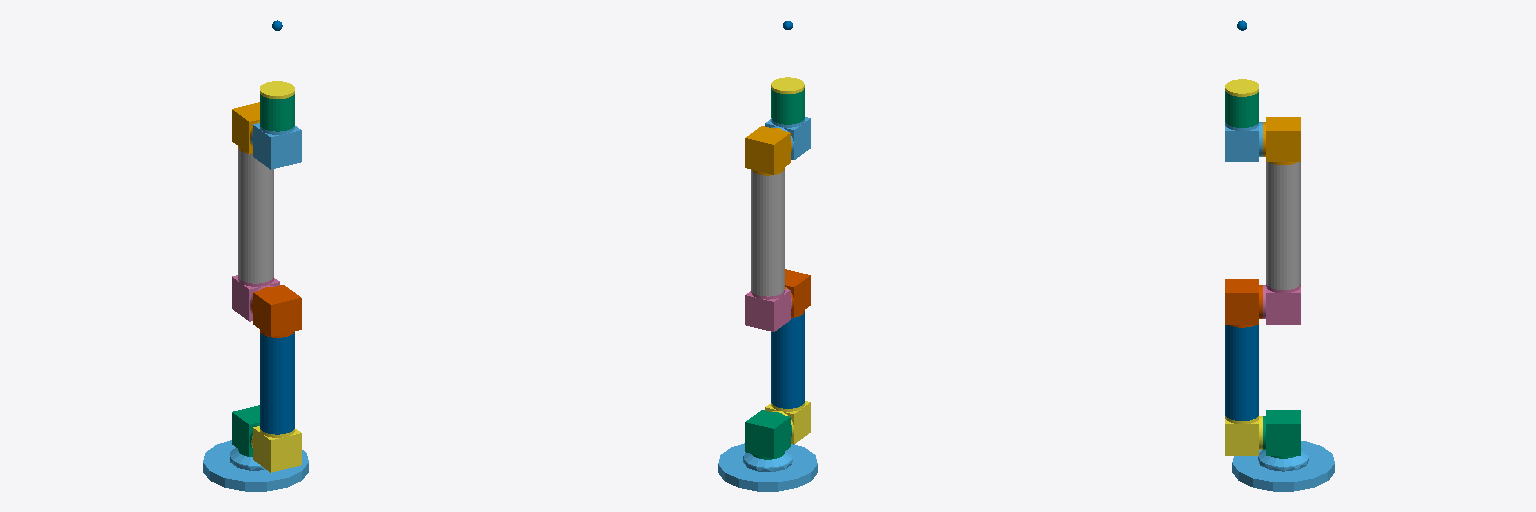
URDF robot description (armrobot):
<?xml version="1.0" encoding="utf-8"?>
<!-- =================================================================================== -->
<!-- |    This document was autogenerated by xacro from [local-path]/dev/catkin_ws/src/robot_desc/models/robot_environment.xacro | -->
<!-- |    EDITING THIS FILE BY HAND IS NOT RECOMMENDED                                 | -->
<!-- =================================================================================== -->
<robot name="armrobot">
  <gazebo>
    <plugin filename="libgazebo_ros_control.so" name="gazebo_ros_control">
    </plugin>
  </gazebo>
  <link name="world"/>
  <joint name="world_joint" type="fixed">
    <origin rpy="0 0 0" xyz="0 0 0"/>
    <parent link="world"/>
    <child link="base_model"/>
  </joint>
  <!-- Base Model -->
  <link name="base_model">
    <inertial>
      <origin rpy="0 0 0" xyz="2e-06 0 0.019926"/>
      <mass value="1000"/>
      <inertia ixx="4.811547714514836" ixy="0" ixz="0" iyy="4.811547714514836" iyz="0" izz="9.623095429029672"/>
    </inertial>
    <collision>
      <geometry>
        <mesh filename="package://robot_desc/models/BaseModel2.dae"/>
      </geometry>
    </collision>
    <visual>
      <geometry>
        <mesh filename="package://robot_desc/models/BaseModel2.dae"/>
      </geometry>
    </visual>
  </link>
  <gazebo reference="base_model">
    <material>Gazebo/DarkGrey</material>
    <selfCollide>true</selfCollide>
  </gazebo>
  <!-- Arm Construct -->
  <!-- 2 Adapter -->
  <link name="adapter_1_1">
    <inertial>
      <origin rpy="0 0 0" xyz="0 -0.003725 0.003727"/>
      <mass value="10"/>
      <inertia ixx="0.017286084701815037" ixy="0" ixz="0" iyy="0.017286084701815037" iyz="0" izz="0.017286084701815037"/>
    </inertial>
    <collision name="adapter_1_1_collision">
      <geometry>
        <mesh filename="package://robot_desc/models/FirstLink.dae"/>
      </geometry>
    </collision>
    <visual>
      <geometry>
        <mesh filename="package://robot_desc/models/FirstLink.dae"/>
      </geometry>
    </visual>
  </link>
  <gazebo reference="adapter_1_1">
    <material>Gazebo/FlatBlack</material>
    <selfCollide>true</selfCollide>
  </gazebo>
  <!-- Contact Sensor -->
  <gazebo reference="adapter_1_1">
    <sensor name="adapter_1_1_contact_sensor" type="contact">
      <always_on>true</always_on>
      <contact>
        <collision>adapter_1_1_collision_collision</collision>
      </contact>
      <plugin filename="libgazebo_ros_bumper.so" name="adapter_1_1_plugin">
        <bumperTopicName>adapter_1_1_contact</bumperTopicName>
        <frameName>adapter_1_1</frameName>
      </plugin>
    </sensor>
  </gazebo>
  <link name="adapter_1_2">
    <inertial>
      <origin rpy="0 0 0" xyz="0 -0.003725 0.003727"/>
      <mass value="10"/>
      <inertia ixx="0.017286084701815037" ixy="0" ixz="0" iyy="0.017286084701815037" iyz="0" izz="0.017286084701815037"/>
    </inertial>
    <collision name="adapter_1_2_collision">
      <geometry>
        <mesh filename="package://robot_desc/models/FirstLink.dae"/>
      </geometry>
    </collision>
    <visual>
      <geometry>
        <mesh filename="package://robot_desc/models/FirstLink.dae"/>
      </geometry>
    </visual>
  </link>
  <gazebo reference="adapter_1_2">
    <material>Gazebo/FlatBlack</material>
    <selfCollide>true</selfCollide>
  </gazebo>
  <!-- Contact Sensor -->
  <gazebo reference="adapter_1_2">
    <sensor name="adapter_1_2_contact_sensor" type="contact">
      <always_on>true</always_on>
      <contact>
        <collision>adapter_1_2_collision_collision</collision>
      </contact>
      <plugin filename="libgazebo_ros_bumper.so" name="adapter_1_2_plugin">
        <bumperTopicName>adapter_1_2_contact</bumperTopicName>
        <frameName>adapter_1_2</frameName>
      </plugin>
    </sensor>
  </gazebo>
  <!-- 1 Arm -->
  <link name="arm_1">
    <inertial>
      <origin rpy="0 0 0" xyz="0 0 0"/>
      <mass value="6"/>
      <inertia ixx="0.04875" ixy="0" ixz="0" iyy="0.04875" iyz="0" izz="0.0012500000000000002"/>
    </inertial>
    <collision name="arm_1_collision">
      <geometry>
        <cylinder length="0.3" radius="0.05"/>
      </geometry>
    </collision>
    <visual>
      <geometry>
        <cylinder length="0.3" radius="0.05"/>
      </geometry>
    </visual>
  </link>
  <gazebo reference="arm_1">
    <material>Gazebo/DarkGrey</material>
    <selfCollide>true</selfCollide>
  </gazebo>
  <!-- Contact Sensor -->
  <gazebo reference="arm_1">
    <sensor name="arm_1_contact_sensor" type="contact">
      <always_on>true</always_on>
      <contact>
        <collision>arm_1_collision_collision</collision>
      </contact>
      <plugin filename="libgazebo_ros_bumper.so" name="arm_1_plugin">
        <bumperTopicName>arm_1_contact</bumperTopicName>
        <frameName>arm_1</frameName>
      </plugin>
    </sensor>
  </gazebo>
  <!-- 2 Adapter -->
  <link name="adapter_2_1">
    <inertial>
      <origin rpy="0 0 0" xyz="0 -0.003725 0.003727"/>
      <mass value="10"/>
      <inertia ixx="0.017286084701815037" ixy="0" ixz="0" iyy="0.017286084701815037" iyz="0" izz="0.017286084701815037"/>
    </inertial>
    <collision name="adapter_2_1_collision">
      <geometry>
        <mesh filename="package://robot_desc/models/FirstLink.dae"/>
      </geometry>
    </collision>
    <visual>
      <geometry>
        <mesh filename="package://robot_desc/models/FirstLink.dae"/>
      </geometry>
    </visual>
  </link>
  <gazebo reference="adapter_2_1">
    <material>Gazebo/FlatBlack</material>
    <selfCollide>true</selfCollide>
  </gazebo>
  <!-- Contact Sensor -->
  <gazebo reference="adapter_2_1">
    <sensor name="adapter_2_1_contact_sensor" type="contact">
      <always_on>true</always_on>
      <contact>
        <collision>adapter_2_1_collision_collision</collision>
      </contact>
      <plugin filename="libgazebo_ros_bumper.so" name="adapter_2_1_plugin">
        <bumperTopicName>adapter_2_1_contact</bumperTopicName>
        <frameName>adapter_2_1</frameName>
      </plugin>
    </sensor>
  </gazebo>
  <link name="adapter_2_2">
    <inertial>
      <origin rpy="0 0 0" xyz="0 -0.003725 0.003727"/>
      <mass value="10"/>
      <inertia ixx="0.017286084701815037" ixy="0" ixz="0" iyy="0.017286084701815037" iyz="0" izz="0.017286084701815037"/>
    </inertial>
    <collision name="adapter_2_2_collision">
      <geometry>
        <mesh filename="package://robot_desc/models/FirstLink.dae"/>
      </geometry>
    </collision>
    <visual>
      <geometry>
        <mesh filename="package://robot_desc/models/FirstLink.dae"/>
      </geometry>
    </visual>
  </link>
  <gazebo reference="adapter_2_2">
    <material>Gazebo/FlatBlack</material>
    <selfCollide>true</selfCollide>
  </gazebo>
  <!-- Contact Sensor -->
  <gazebo reference="adapter_2_2">
    <sensor name="adapter_2_2_contact_sensor" type="contact">
      <always_on>true</always_on>
      <contact>
        <collision>adapter_2_2_collision_collision</collision>
      </contact>
      <plugin filename="libgazebo_ros_bumper.so" name="adapter_2_2_plugin">
        <bumperTopicName>adapter_2_2_contact</bumperTopicName>
        <frameName>adapter_2_2</frameName>
      </plugin>
    </sensor>
  </gazebo>
  <!-- 1 Arm -->
  <link name="arm_2">
    <inertial>
      <origin rpy="0 0 0" xyz="0 0 0"/>
      <mass value="9"/>
      <inertia ixx="0.12562500000000004" ixy="0" ixz="0" iyy="0.12562500000000004" iyz="0" izz="0.0018750000000000004"/>
    </inertial>
    <collision name="arm_2_collision">
      <geometry>
        <cylinder length="0.4" radius="0.05"/>
      </geometry>
    </collision>
    <visual>
      <geometry>
        <cylinder length="0.4" radius="0.05"/>
      </geometry>
    </visual>
  </link>
  <gazebo reference="arm_2">
    <material>Gazebo/DarkGrey</material>
    <selfCollide>true</selfCollide>
  </gazebo>
  <!-- Contact Sensor -->
  <gazebo reference="arm_2">
    <sensor name="arm_2_contact_sensor" type="contact">
      <always_on>true</always_on>
      <contact>
        <collision>arm_2_collision_collision</collision>
      </contact>
      <plugin filename="libgazebo_ros_bumper.so" name="arm_2_plugin">
        <bumperTopicName>arm_2_contact</bumperTopicName>
        <frameName>arm_2</frameName>
      </plugin>
    </sensor>
  </gazebo>
  <!-- 2 Adapter -->
  <link name="adapter_3_1">
    <inertial>
      <origin rpy="0 0 0" xyz="0 -0.003725 0.003727"/>
      <mass value="10"/>
      <inertia ixx="0.017286084701815037" ixy="0" ixz="0" iyy="0.017286084701815037" iyz="0" izz="0.017286084701815037"/>
    </inertial>
    <collision name="adapter_3_1_collision">
      <geometry>
        <mesh filename="package://robot_desc/models/FirstLink.dae"/>
      </geometry>
    </collision>
    <visual>
      <geometry>
        <mesh filename="package://robot_desc/models/FirstLink.dae"/>
      </geometry>
    </visual>
  </link>
  <gazebo reference="adapter_3_1">
    <material>Gazebo/FlatBlack</material>
    <selfCollide>true</selfCollide>
  </gazebo>
  <!-- Contact Sensor -->
  <gazebo reference="adapter_3_1">
    <sensor name="adapter_3_1_contact_sensor" type="contact">
      <always_on>true</always_on>
      <contact>
        <collision>adapter_3_1_collision_collision</collision>
      </contact>
      <plugin filename="libgazebo_ros_bumper.so" name="adapter_3_1_plugin">
        <bumperTopicName>adapter_3_1_contact</bumperTopicName>
        <frameName>adapter_3_1</frameName>
      </plugin>
    </sensor>
  </gazebo>
  <link name="adapter_3_2">
    <inertial>
      <origin rpy="0 0 0" xyz="0 -0.003725 0.003727"/>
      <mass value="10"/>
      <inertia ixx="0.017286084701815037" ixy="0" ixz="0" iyy="0.017286084701815037" iyz="0" izz="0.017286084701815037"/>
    </inertial>
    <collision name="adapter_3_2_collision">
      <geometry>
        <mesh filename="package://robot_desc/models/FirstLink.dae"/>
      </geometry>
    </collision>
    <visual>
      <geometry>
        <mesh filename="package://robot_desc/models/FirstLink.dae"/>
      </geometry>
    </visual>
  </link>
  <gazebo reference="adapter_3_2">
    <material>Gazebo/FlatBlack</material>
    <selfCollide>true</selfCollide>
  </gazebo>
  <!-- Contact Sensor -->
  <gazebo reference="adapter_3_2">
    <sensor name="adapter_3_2_contact_sensor" type="contact">
      <always_on>true</always_on>
      <contact>
        <collision>adapter_3_2_collision_collision</collision>
      </contact>
      <plugin filename="libgazebo_ros_bumper.so" name="adapter_3_2_plugin">
        <bumperTopicName>adapter_3_2_contact</bumperTopicName>
        <frameName>adapter_3_2</frameName>
      </plugin>
    </sensor>
  </gazebo>
  <!-- 1 Arm -->
  <link name="arm_3">
    <inertial>
      <origin rpy="0 0 0" xyz="0 0 0"/>
      <mass value="2"/>
      <inertia ixx="0.002916666666666667" ixy="0" ixz="0" iyy="0.002916666666666667" iyz="0" izz="0.00041666666666666675"/>
    </inertial>
    <collision name="arm_3_collision">
      <geometry>
        <cylinder length="0.1" radius="0.05"/>
      </geometry>
    </collision>
    <visual>
      <geometry>
        <cylinder length="0.1" radius="0.05"/>
      </geometry>
    </visual>
  </link>
  <gazebo reference="arm_3">
    <material>Gazebo/DarkGrey</material>
    <selfCollide>true</selfCollide>
  </gazebo>
  <!-- Contact Sensor -->
  <gazebo reference="arm_3">
    <sensor name="arm_3_contact_sensor" type="contact">
      <always_on>true</always_on>
      <contact>
        <collision>arm_3_collision_collision</collision>
      </contact>
      <plugin filename="libgazebo_ros_bumper.so" name="arm_3_plugin">
        <bumperTopicName>arm_3_contact</bumperTopicName>
        <frameName>arm_3</frameName>
      </plugin>
    </sensor>
  </gazebo>
  <!-- Tool Tip -->
  <link name="tooltip">
    <inertial>
      <origin rpy="0 0 0" xyz="0 0 0"/>
      <mass value="10"/>
      <inertia ixx="0.006333333333333334" ixy="0" ixz="0" iyy="0.006333333333333334" iyz="0" izz="0.0020833333333333337"/>
    </inertial>
    <collision>
      <geometry>
        <cylinder length="0.01" radius="0.05"/>
      </geometry>
    </collision>
    <visual>
      <geometry>
        <cylinder length="0.01" radius="0.05"/>
      </geometry>
    </visual>
  </link>
  <gazebo reference="tooltip">
    <material>Gazebo/DarkGrey</material>
    <selfCollide>true</selfCollide>
  </gazebo>
  <!-- EEF Dummy -->
  <link name="eef_dummy">
    <visual>
      <origin rpy="0 0 0" xyz="0 0 0"/>
      <geometry>
        <sphere radius="0.015"/>
      </geometry>
    </visual>
    <inertial>
      <origin rpy="0 0 0" xyz="0 0 0"/>
      <mass value="1"/>
      <inertia ixx="1.0" ixy="0.0" ixz="0.0" iyy="1.0" iyz="0.0" izz="1.0"/>
    </inertial>
  </link>
  <gazebo reference="eef_dummy">
    <material>Gazebo/Red</material>
  </gazebo>
  <joint name="eef_dummy_joint" type="fixed">
    <origin rpy="0 0 0" xyz="0 0 0.2"/>
    <parent link="tooltip"/>
    <child link="eef_dummy"/>
  </joint>
  <!-- Joint -->
  <joint name="base_model_adapter_1_1" type="revolute">
    <parent link="base_model"/>
    <child link="adapter_1_1"/>
    <origin rpy="0 3.141592653589793 0" xyz="0 0 0.12"/>
    <axis xyz="0 0 1"/>
    <limit effort="1000.0" lower="-3.141592653589793" upper="3.141592653589793" velocity="3.2"/>
  </joint>
  <transmission name="base_model_adapter_1_1_trans">
    <type>transmission_interface/SimpleTransmission</type>
    <joint name="base_model_adapter_1_1">
      <hardwareInterface>hardware_interface/PositionJointInterface</hardwareInterface>
    </joint>
    <actuator name="base_model_adapter_1_1_motor">
      <mechanicalReduction>1</mechanicalReduction>
    </actuator>
  </transmission>
  <joint name="adapter_1_1_adapter_1_2" type="revolute">
    <parent link="adapter_1_1"/>
    <child link="adapter_1_2"/>
    <origin rpy="3.141592653589793 0 0" xyz="0 -0.12 0"/>
    <axis xyz="0 1 0"/>
    <limit effort="1000.0" lower="-3.141592653589793" upper="3.141592653589793" velocity="3.2"/>
  </joint>
  <transmission name="adapter_1_1_adapter_1_2_trans">
    <type>transmission_interface/SimpleTransmission</type>
    <joint name="adapter_1_1_adapter_1_2">
      <hardwareInterface>hardware_interface/PositionJointInterface</hardwareInterface>
    </joint>
    <actuator name="adapter_1_1_adapter_1_2_motor">
      <mechanicalReduction>1</mechanicalReduction>
    </actuator>
  </transmission>
  <joint name="adapter_1_2_arm_1" type="revolute">
    <parent link="adapter_1_2"/>
    <child link="arm_1"/>
    <origin rpy="0 0 0" xyz="0 0 0.21"/>
    <axis xyz="0 0 1"/>
    <limit effort="1000.0" lower="0" upper="0" velocity="3.2"/>
  </joint>
  <transmission name="adapter_1_2_arm_1_trans">
    <type>transmission_interface/SimpleTransmission</type>
    <joint name="adapter_1_2_arm_1">
      <hardwareInterface>hardware_interface/PositionJointInterface</hardwareInterface>
    </joint>
    <actuator name="adapter_1_2_arm_1_motor">
      <mechanicalReduction>1</mechanicalReduction>
    </actuator>
  </transmission>
  <joint name="arm_1_adapter_2_1" type="revolute">
    <parent link="arm_1"/>
    <child link="adapter_2_1"/>
    <origin rpy="1.5707963267948966 0 0" xyz="0 0 0.21"/>
    <axis xyz="0 1 0"/>
    <limit effort="1000.0" lower="0" upper="0" velocity="3.2"/>
  </joint>
  <transmission name="arm_1_adapter_2_1_trans">
    <type>transmission_interface/SimpleTransmission</type>
    <joint name="arm_1_adapter_2_1">
      <hardwareInterface>hardware_interface/PositionJointInterface</hardwareInterface>
    </joint>
    <actuator name="arm_1_adapter_2_1_motor">
      <mechanicalReduction>1</mechanicalReduction>
    </actuator>
  </transmission>
  <joint name="adapter_2_1_adapter_2_2" type="revolute">
    <parent link="adapter_2_1"/>
    <child link="adapter_2_2"/>
    <origin rpy="3.141592653589793 0 0" xyz="0 0 0.12"/>
    <axis xyz="0 0 1"/>
    <limit effort="1000.0" lower="-3.141592653589793" upper="3.141592653589793" velocity="3.2"/>
  </joint>
  <transmission name="adapter_2_1_adapter_2_2_trans">
    <type>transmission_interface/SimpleTransmission</type>
    <joint name="adapter_2_1_adapter_2_2">
      <hardwareInterface>hardware_interface/PositionJointInterface</hardwareInterface>
    </joint>
    <actuator name="adapter_2_1_adapter_2_2_motor">
      <mechanicalReduction>1</mechanicalReduction>
    </actuator>
  </transmission>
  <joint name="adapter_2_2_arm_2" type="revolute">
    <parent link="adapter_2_2"/>
    <child link="arm_2"/>
    <origin rpy="1.5707963267948966 0 0" xyz="0 -0.26 0"/>
    <axis xyz="0 0 1"/>
    <limit effort="1000.0" lower="0" upper="0" velocity="3.2"/>
  </joint>
  <transmission name="adapter_2_2_arm_2_trans">
    <type>transmission_interface/SimpleTransmission</type>
    <joint name="adapter_2_2_arm_2">
      <hardwareInterface>hardware_interface/PositionJointInterface</hardwareInterface>
    </joint>
    <actuator name="adapter_2_2_arm_2_motor">
      <mechanicalReduction>1</mechanicalReduction>
    </actuator>
  </transmission>
  <joint name="arm_2_adapter_3_1" type="revolute">
    <parent link="arm_2"/>
    <child link="adapter_3_1"/>
    <origin rpy="3.141592653589793 0 0" xyz="0 0 0.26"/>
    <axis xyz="0 0 1"/>
    <limit effort="1000.0" lower="-3.141592653589793" upper="3.141592653589793" velocity="3.2"/>
  </joint>
  <transmission name="arm_2_adapter_3_1_trans">
    <type>transmission_interface/SimpleTransmission</type>
    <joint name="arm_2_adapter_3_1">
      <hardwareInterface>hardware_interface/PositionJointInterface</hardwareInterface>
    </joint>
    <actuator name="arm_2_adapter_3_1_motor">
      <mechanicalReduction>1</mechanicalReduction>
    </actuator>
  </transmission>
  <joint name="adapter_3_1_adapter_3_2" type="revolute">
    <parent link="adapter_3_1"/>
    <child link="adapter_3_2"/>
    <origin rpy="3.141592653589793 0 0" xyz="0 -0.12 0"/>
    <axis xyz="0 1 0"/>
    <limit effort="1000.0" lower="-3.141592653589793" upper="3.141592653589793" velocity="3.2"/>
  </joint>
  <transmission name="adapter_3_1_adapter_3_2_trans">
    <type>transmission_interface/SimpleTransmission</type>
    <joint name="adapter_3_1_adapter_3_2">
      <hardwareInterface>hardware_interface/PositionJointInterface</hardwareInterface>
    </joint>
    <actuator name="adapter_3_1_adapter_3_2_motor">
      <mechanicalReduction>1</mechanicalReduction>
    </actuator>
  </transmission>
  <joint name="adapter_3_2_arm_3" type="revolute">
    <parent link="adapter_3_2"/>
    <child link="arm_3"/>
    <origin rpy="0 0 0" xyz="0 0 0.11"/>
    <axis xyz="0 0 1"/>
    <limit effort="1000.0" lower="0" upper="0" velocity="3.2"/>
  </joint>
  <transmission name="adapter_3_2_arm_3_trans">
    <type>transmission_interface/SimpleTransmission</type>
    <joint name="adapter_3_2_arm_3">
      <hardwareInterface>hardware_interface/PositionJointInterface</hardwareInterface>
    </joint>
    <actuator name="adapter_3_2_arm_3_motor">
      <mechanicalReduction>1</mechanicalReduction>
    </actuator>
  </transmission>
  <joint name="arm_3_tooltip" type="revolute">
    <parent link="arm_3"/>
    <child link="tooltip"/>
    <origin rpy="0 0 0" xyz="0 0 0.055"/>
    <axis xyz="0 0 1"/>
    <limit effort="1000.0" lower="-3.141592653589793" upper="3.141592653589793" velocity="3.2"/>
  </joint>
  <transmission name="arm_3_tooltip_trans">
    <type>transmission_interface/SimpleTransmission</type>
    <joint name="arm_3_tooltip">
      <hardwareInterface>hardware_interface/PositionJointInterface</hardwareInterface>
    </joint>
    <actuator name="arm_3_tooltip_motor">
      <mechanicalReduction>1</mechanicalReduction>
    </actuator>
  </transmission>
</robot>

--- Render facts (derived) ---
Views: 3 orthographic renders of the robot side by side, from view 1: azimuth 30°, elevation 25°; view 2: azimuth 150°, elevation 25°; view 3: azimuth 270°, elevation 25°.
Model armrobot with 13 links and 12 joints (10 revolute, 2 fixed), rooted at world, posed every joint at zero.
Links seen in each view (by area): view 1: arm_2, arm_1, base_model, adapter_2_1, adapter_1_2, adapter_3_2, arm_3, adapter_3_1, adapter_1_1, adapter_2_2, tooltip; view 2: arm_2, base_model, arm_1, adapter_1_1, adapter_3_1, adapter_2_2, arm_3, adapter_2_1, adapter_1_2, adapter_3_2; view 3: arm_2, base_model, arm_1, adapter_1_1, adapter_2_1, adapter_3_1, adapter_2_2, adapter_1_2, adapter_3_2, arm_3.
Link boxes in pixels (x1=…): arm_2: x1=238, y1=148, x2=273, y2=283; arm_1: x1=260, y1=332, x2=294, y2=434; base_model: x1=203, y1=440, x2=308, y2=491; adapter_2_1: x1=251, y1=285, x2=301, y2=337; adapter_1_2: x1=251, y1=426, x2=301, y2=472; adapter_3_2: x1=251, y1=123, x2=301, y2=169; arm_3: x1=260, y1=94, x2=294, y2=131; adapter_3_1: x1=232, y1=102, x2=259, y2=154; adapter_1_1: x1=232, y1=405, x2=259, y2=456; adapter_2_2: x1=232, y1=275, x2=279, y2=321; tooltip: x1=260, y1=81, x2=294, y2=98; arm_2: x1=751, y1=170, x2=784, y2=296; base_model: x1=718, y1=443, x2=817, y2=491; arm_1: x1=771, y1=312, x2=804, y2=408; adapter_1_1: x1=745, y1=410, x2=791, y2=459; adapter_3_1: x1=745, y1=126, x2=791, y2=175; adapter_2_2: x1=745, y1=289, x2=791, y2=331; arm_3: x1=771, y1=88, x2=804, y2=124; adapter_2_1: x1=785, y1=269, x2=810, y2=317; adapter_1_2: x1=765, y1=401, x2=810, y2=444; adapter_3_2: x1=765, y1=117, x2=810, y2=159; arm_2: x1=1266, y1=162, x2=1300, y2=289; base_model: x1=1232, y1=441, x2=1334, y2=491; arm_1: x1=1225, y1=325, x2=1258, y2=420; adapter_1_1: x1=1263, y1=410, x2=1300, y2=458; adapter_2_1: x1=1225, y1=279, x2=1262, y2=327; adapter_3_1: x1=1263, y1=117, x2=1300, y2=164; adapter_2_2: x1=1263, y1=284, x2=1300, y2=324; adapter_1_2: x1=1225, y1=416, x2=1262, y2=455; adapter_3_2: x1=1225, y1=122, x2=1262, y2=161; arm_3: x1=1225, y1=91, x2=1258, y2=127.
Size in the robot's own frame: 0.2967 by 0.3192 by 1.44 metres.
7 mesh visuals loaded from 2 distinct referenced files (2 Collada DAE).